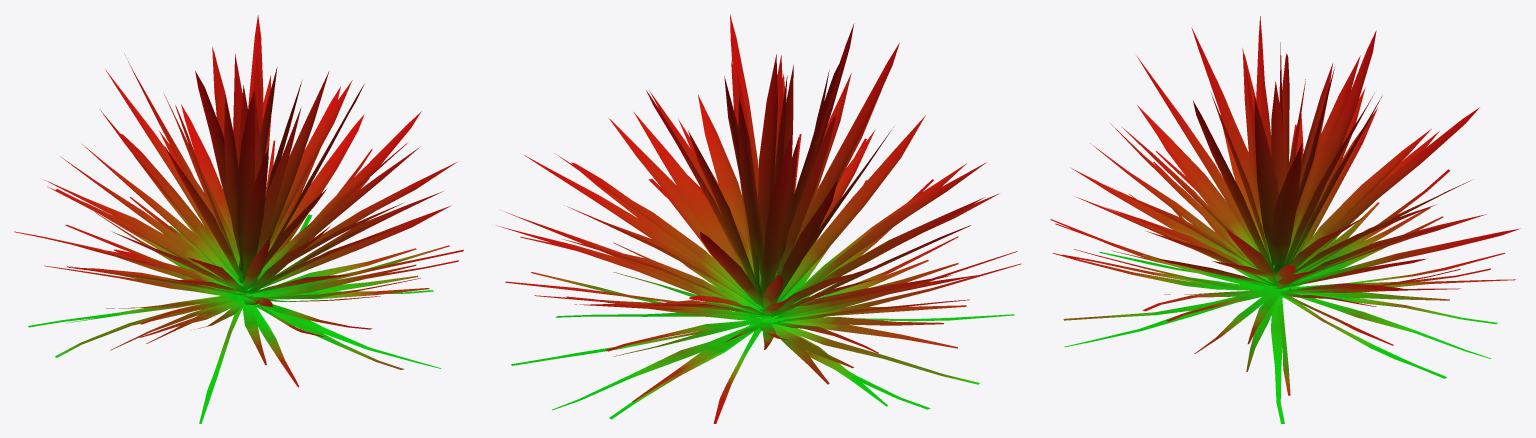
Rendered from Var9_LOD4.fbx.
The picture shows the model from 3 angles, left to right: view 1: azimuth 30°, elevation 25°; view 2: azimuth 150°, elevation 25°; view 3: azimuth 270°, elevation 25°; orthographic projection. The views are drawn at different scales.
Visible parts, largest first — view 1: _msif_Var9_LOD4; view 2: _msif_Var9_LOD4; view 3: _msif_Var9_LOD4.
Part boxes in pixels (left/top/right/bottom): _msif_Var9_LOD4: left=14, top=15, right=463, bottom=423; _msif_Var9_LOD4: left=496, top=14, right=1021, bottom=423; _msif_Var9_LOD4: left=1050, top=16, right=1520, bottom=423.
Size of the model in its own units: 95.75 by 65.89 by 97.53.
